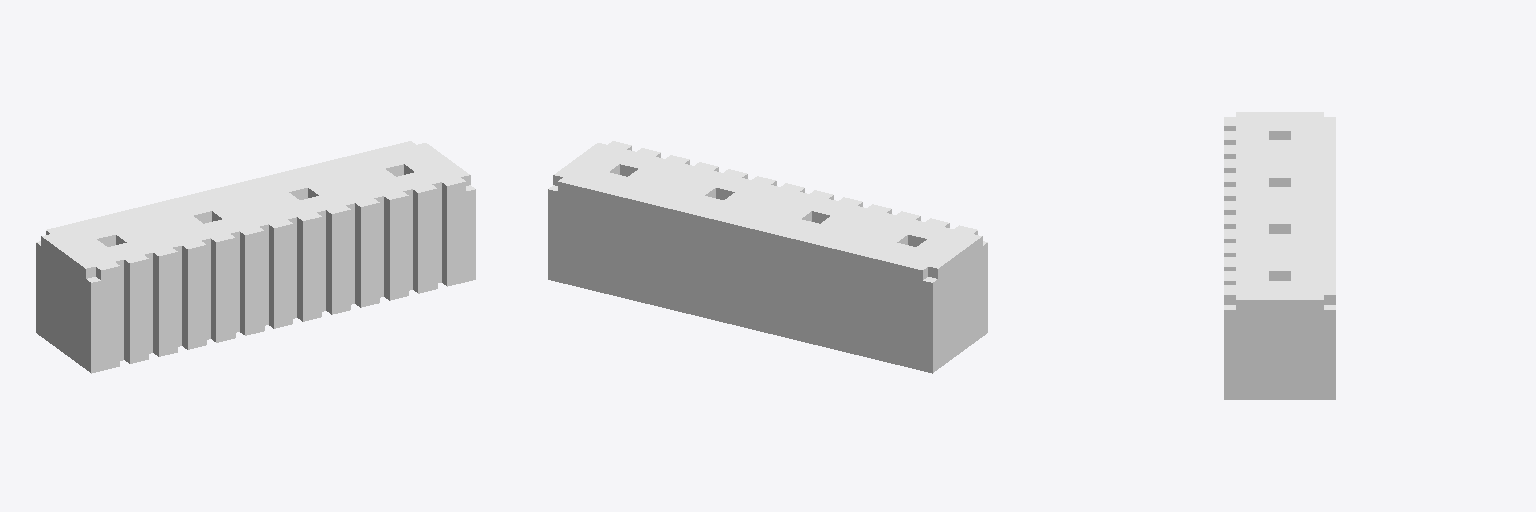
The model's file is VaporTrap.obj.
3 renders of one model, left to right at view 1: azimuth 30°, elevation 25°; view 2: azimuth 150°, elevation 25°; view 3: azimuth 270°, elevation 25°, orthographic.
Visible parts, largest first — view 1: VaporTrap; view 2: VaporTrap; view 3: VaporTrap.
Part boxes in pixels (x1,y1,x2,y2): VaporTrap: (36,141,475,373); VaporTrap: (548,141,987,373); VaporTrap: (1224,112,1335,399).
Bounding box in the file's own units: 40 × 10 × 10.